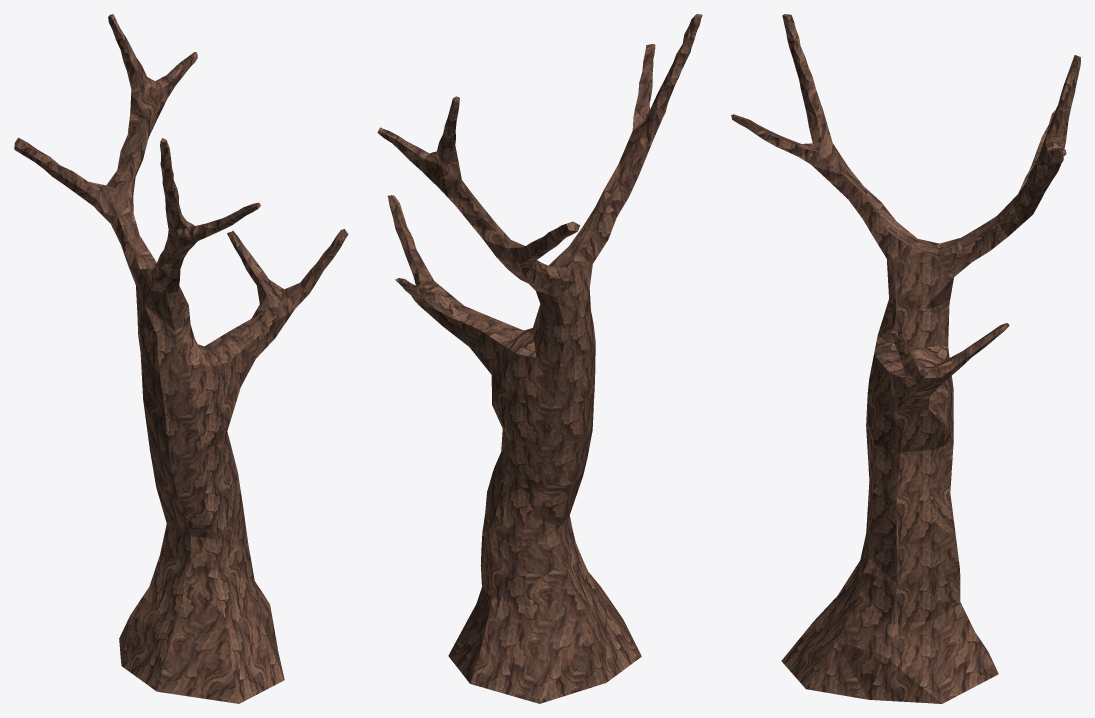
The model's file is dtree_bare_3.glb.
3 renders of one model, left to right at view 1: azimuth 30°, elevation 25°; view 2: azimuth 150°, elevation 25°; view 3: azimuth 270°, elevation 25°, orthographic. The views are drawn at different scales.
Parts seen in each view (by area): view 1: model; view 2: model; view 3: model.
Boxes of the visible parts, box(x1,y1,x2,y2) form: model: box(14, 14, 348, 703); model: box(377, 14, 702, 703); model: box(731, 14, 1080, 703).
Size of the model in its own units: 2.65 by 5.82 by 3.
Materials: 1 (1 with a texture image).
